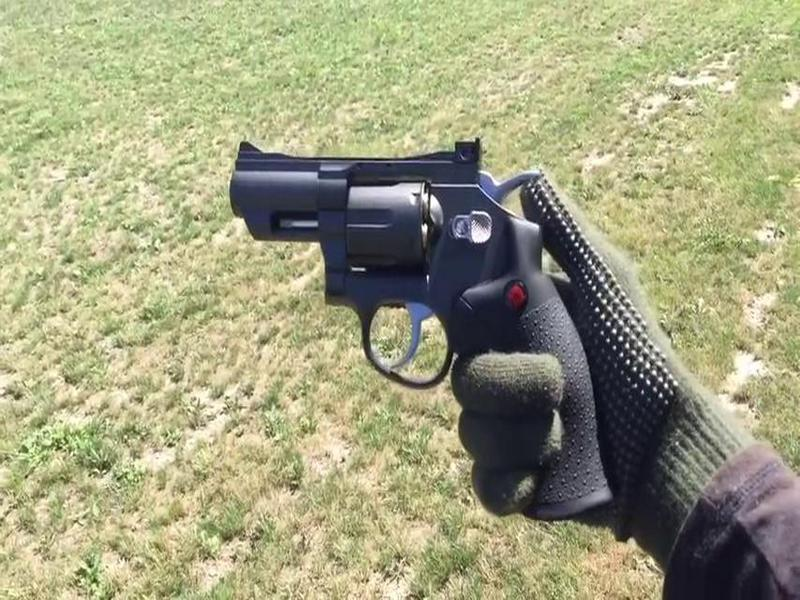Revolver: (226, 130, 607, 512)
